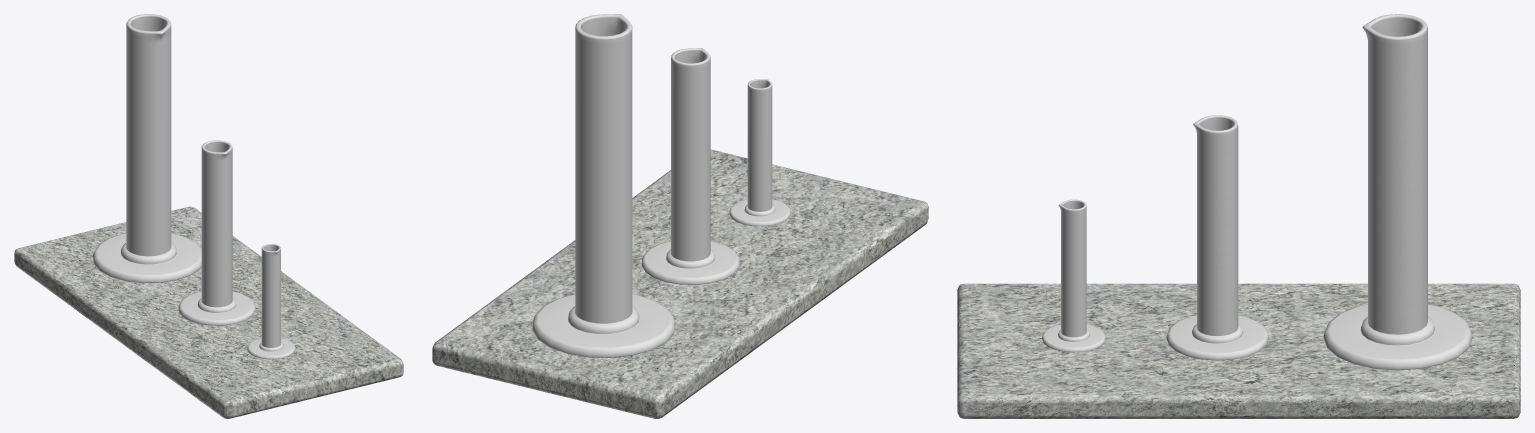
The model's file is graduated_cylinders.glb.
3 views of the same model, side by side, from view 1: azimuth 30°, elevation 25°; view 2: azimuth 150°, elevation 25°; view 3: azimuth 270°, elevation 25° (orthographic). The views are drawn at different scales.
Parts seen in each view (by area): view 1: Granite, GraduatedCylinder_500mL, GraduatedCylinder_250mL, GraduatedCylinder_100mL; view 2: Granite, GraduatedCylinder_500mL, GraduatedCylinder_250mL, GraduatedCylinder_100mL; view 3: Granite, GraduatedCylinder_500mL, GraduatedCylinder_250mL, GraduatedCylinder_100mL.
Part boxes in pixels (left/top/right/bottom): Granite: left=14, top=206, right=403, bottom=418; GraduatedCylinder_500mL: left=93, top=14, right=201, bottom=283; GraduatedCylinder_250mL: left=178, top=140, right=255, bottom=325; GraduatedCylinder_100mL: left=247, top=244, right=295, bottom=359; Granite: left=432, top=149, right=928, bottom=418; GraduatedCylinder_500mL: left=532, top=14, right=675, bottom=357; GraduatedCylinder_250mL: left=641, top=48, right=739, bottom=284; GraduatedCylinder_100mL: left=729, top=79, right=790, bottom=226; Granite: left=957, top=283, right=1520, bottom=418; GraduatedCylinder_500mL: left=1323, top=14, right=1472, bottom=370; GraduatedCylinder_250mL: left=1166, top=115, right=1268, bottom=360; GraduatedCylinder_100mL: left=1042, top=199, right=1105, bottom=352.
Size of the model in its own units: 0.3149 by 0.4256 by 0.6436.
Materials: 2 (2 with a texture image).
